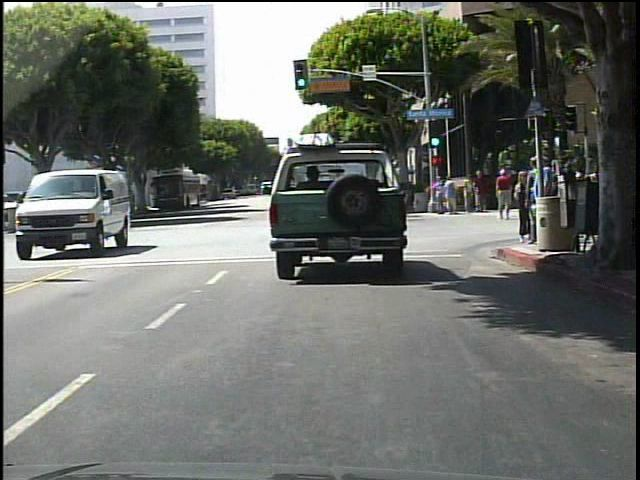person: (529, 154, 556, 255), (526, 155, 542, 247), (511, 170, 530, 245), (493, 168, 514, 221), (520, 178, 538, 226), (540, 171, 554, 219), (442, 178, 457, 218), (476, 170, 489, 212), (464, 176, 476, 214), (434, 178, 445, 216)
